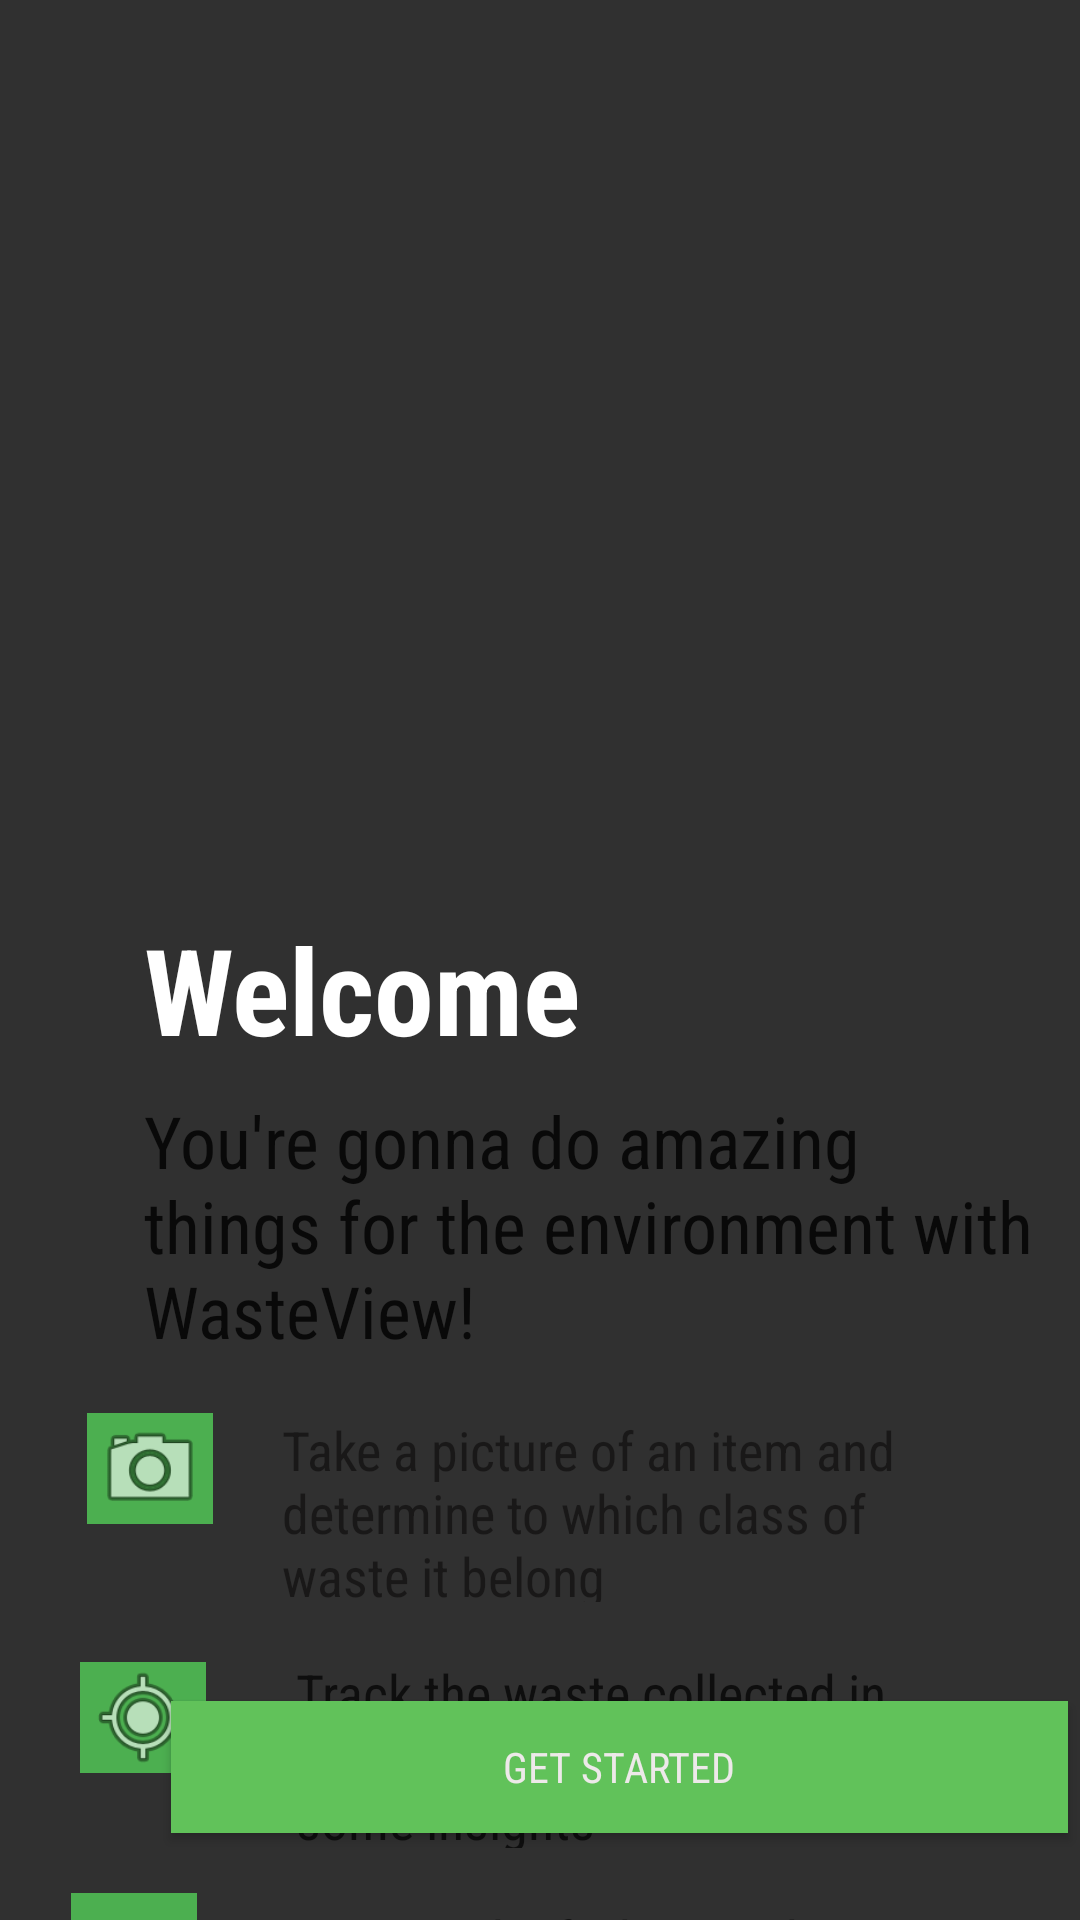

Locate icon controls on the screen. Image size 1080w x 1920h, boxes as Rect(x1, y1, x2, y2).
camera: Rect(87, 1413, 213, 1524)
